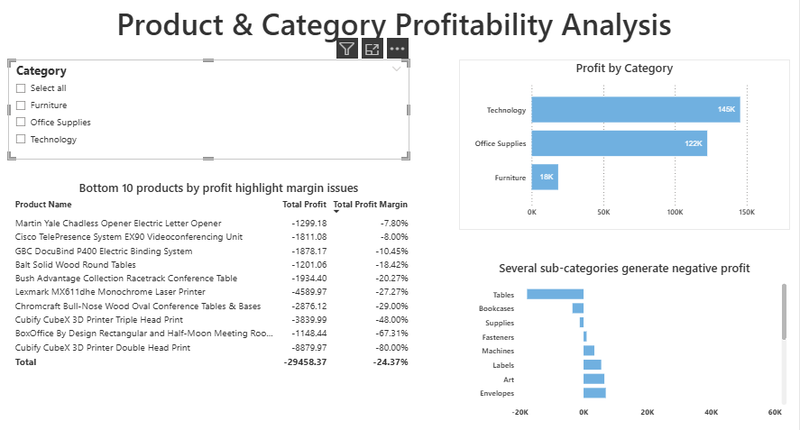

The page's visual inventory and layout, read from the dashboard file:
{"tool":"powerbi","page":{"name":"Product & Category Performance","canvas":[1280,720],"ordinal":1},"visuals":[{"type":"clusteredBarChart","title":"Several sub-categories generate negative profit","fields":{"Category":["Sample - Superstore.Sub-Category"],"Y":["Sample - Superstore.Total Profit"]},"box":[736,432,528,272],"z":0},{"type":"clusteredBarChart","title":"Profit by Category","fields":{"Category":["Sample - Superstore.Category"],"Y":["Sample - Superstore.Total Profit"]},"box":[736,112,528,272],"z":1000},{"type":"tableEx","title":"Bottom 10 products by profit highlight margin issues","fields":{"Values":["Sample - Superstore.Product Name","Sample - Superstore.Total Profit","Sample - Superstore.Total Profit Margin"]},"box":[16,304,672,416],"z":2000},{"type":"slicer","fields":{"Values":["Sample - Superstore.Category"]},"box":[16,112,640,160],"z":3000},{"type":"textbox","box":[144,16,976,80],"z":4000}]}

Visuals, with their boxes on the page's 1280x720 design canvas (x1, y1, x2, y2). These are canvas units, not pixel positions in the 800x430 screenshot, which may show the page scaled, cropped or inside an application window:
"Several sub-categories generate negative profit" clusteredBarChart: {"x1": 736, "y1": 432, "x2": 1264, "y2": 704}
"Profit by Category" clusteredBarChart: {"x1": 736, "y1": 112, "x2": 1264, "y2": 384}
"Bottom 10 products by profit highlight margin issues" tableEx: {"x1": 16, "y1": 304, "x2": 688, "y2": 720}
slicer - Sample - Superstore.Category: {"x1": 16, "y1": 112, "x2": 656, "y2": 272}
textbox: {"x1": 144, "y1": 16, "x2": 1120, "y2": 96}
